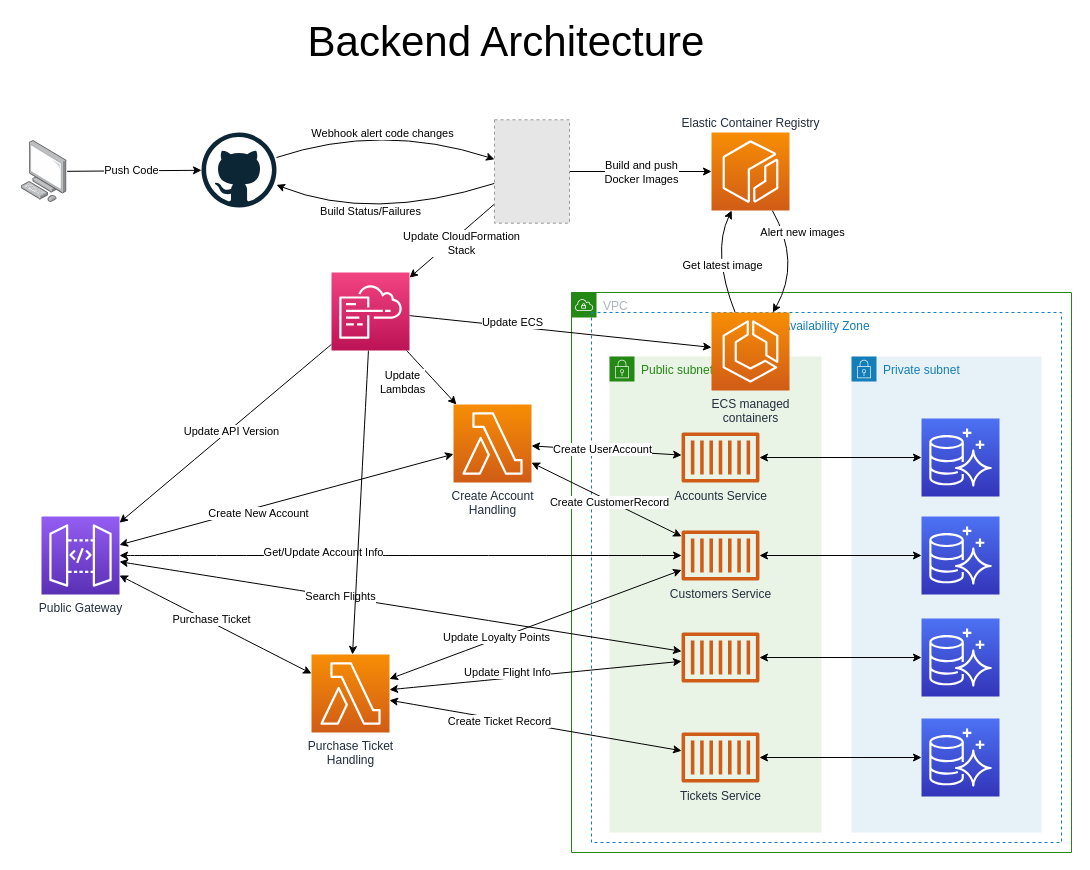
This 1090x870 diagram has some shape labels left out. Grey dashed boxes stand in for pictures. The centre of each missing label's shape, as x and y in pixels:
Accounts DB: point (960, 457)
Customers DB: point (960, 555)
Developer: point (44, 171)
Flights DB: point (960, 657)
Flights Service: point (720, 657)
Tickets DB: point (960, 757)
